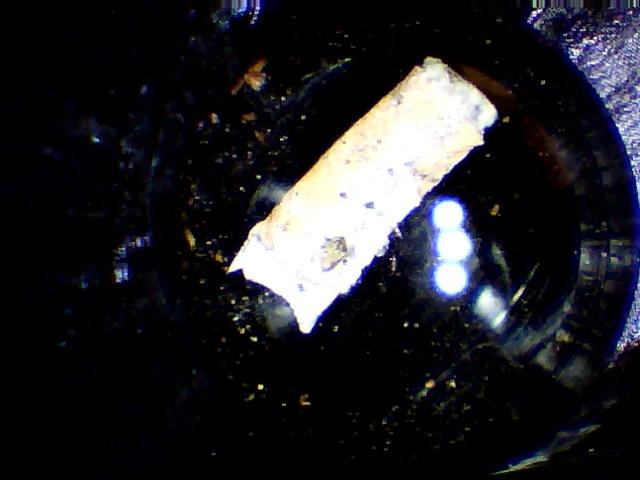megot: (220, 47, 516, 336)
